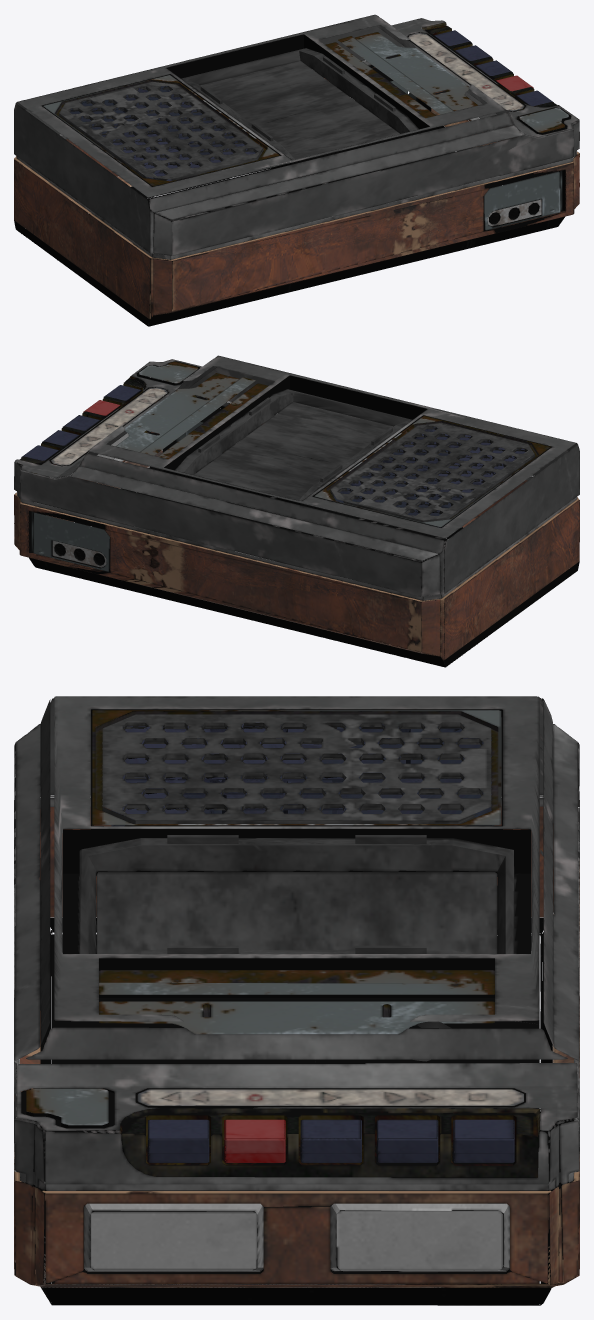
The model's file is TapePlayer.fbx.
3 views of the same model, one above another, from view 1: azimuth 30°, elevation 25°; view 2: azimuth 150°, elevation 25°; view 3: azimuth 270°, elevation 25° (orthographic). The views are drawn at different scales.
Parts seen in each view (by area): view 1: Cassette Player; view 2: Cassette Player; view 3: Cassette Player.
Boxes of the visible parts, x1,y1,x2,y2 form: Cassette Player: (14,14,579,326); Cassette Player: (14,355,579,667); Cassette Player: (14,696,579,1305).
Size of the model in its own units: 69.1 by 19.66 by 42.23.
